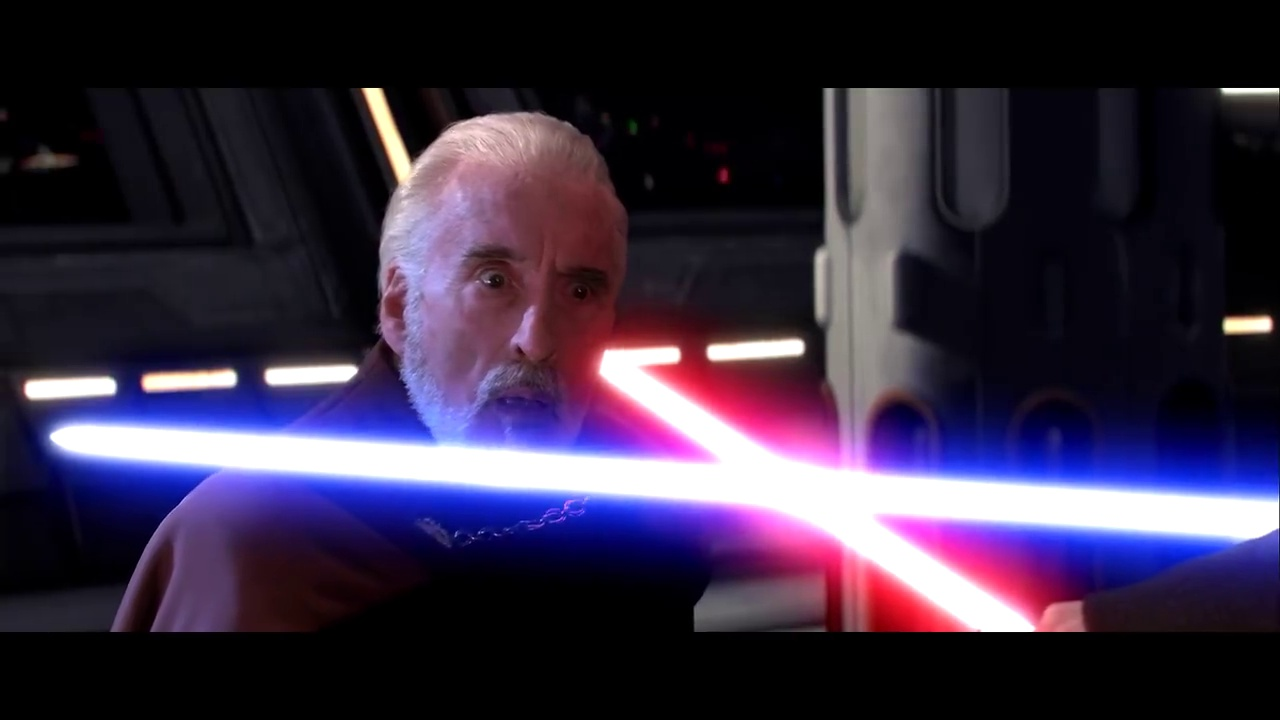lightsaber: (20, 353, 1277, 640)
